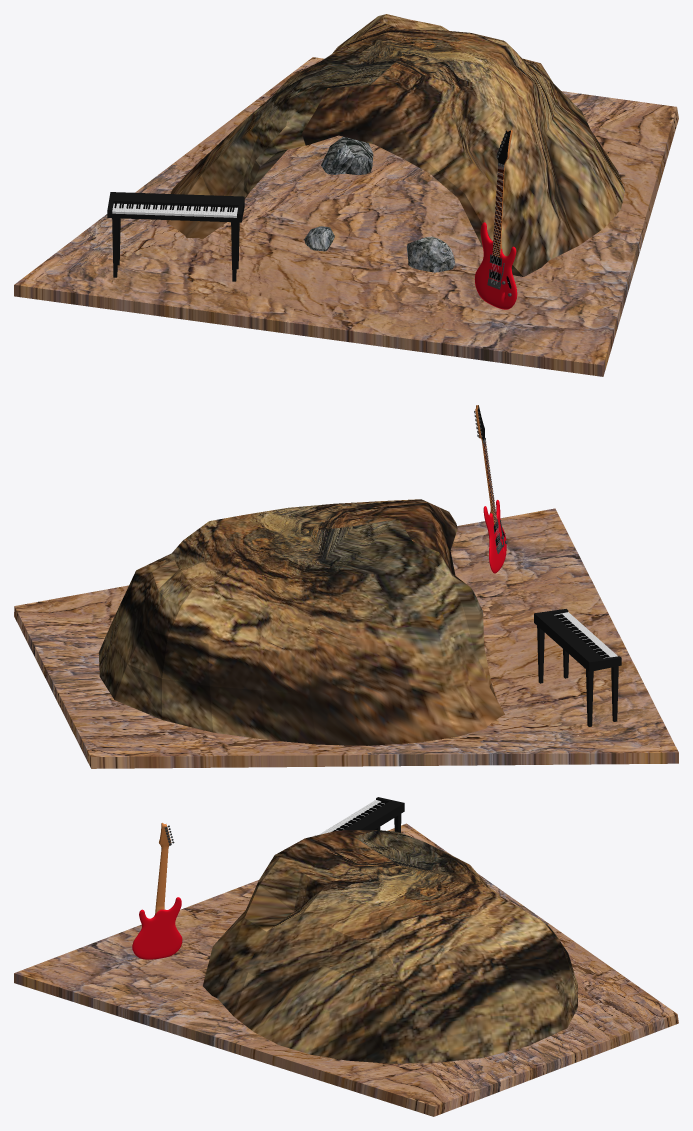
The model's file is studios.glb.
3 views of the same model, one above another, from view 1: azimuth 30°, elevation 25°; view 2: azimuth 150°, elevation 25°; view 3: azimuth 270°, elevation 25° (orthographic). The views are drawn at different scales.
Parts seen in each view (by area): view 1: EMLx scene; view 2: EMLx scene; view 3: EMLx scene.
Boxes of the visible parts, x1,y1,x2,y2 form: EMLx scene: (14, 14, 678, 376); EMLx scene: (14, 405, 678, 768); EMLx scene: (14, 797, 678, 1116).
Size of the model in its own units: 18.16 by 4.8 by 17.99.
Materials: 16 (3 with a texture image).
